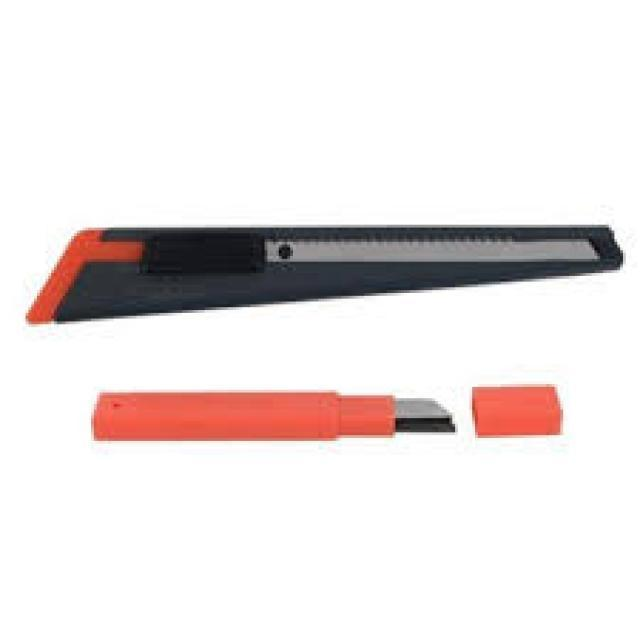cutter: (16, 201, 636, 345)
